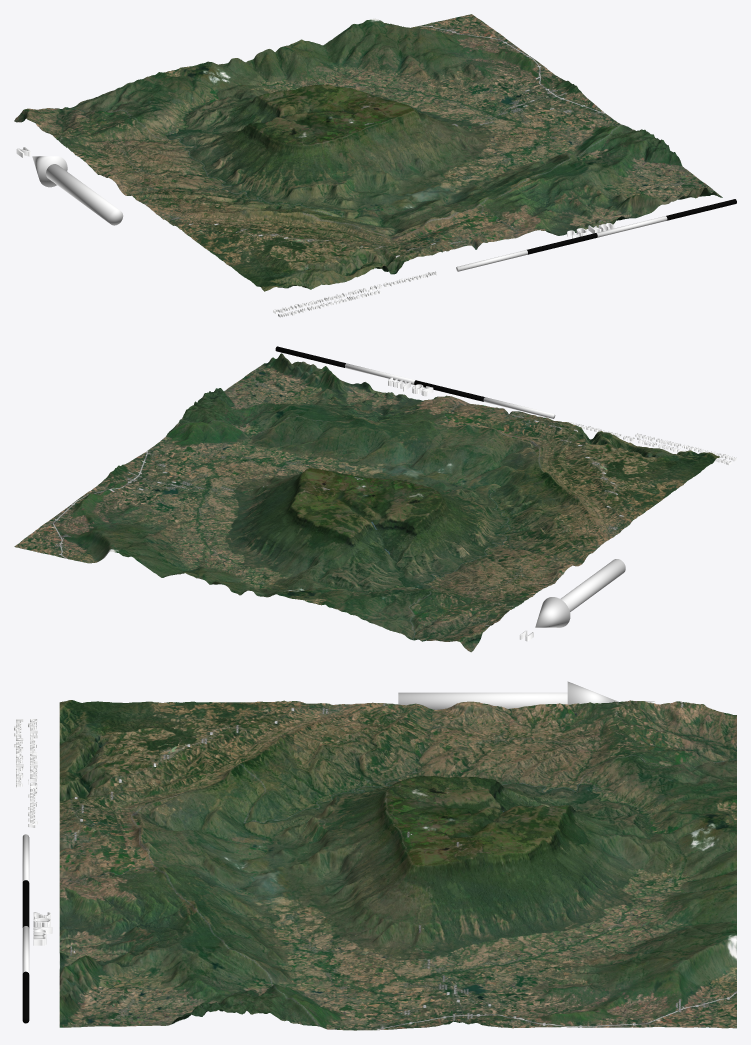
File: mountain.glb
The picture shows the model from 3 angles, top to bottom: view 1: azimuth 30°, elevation 25°; view 2: azimuth 150°, elevation 25°; view 3: azimuth 270°, elevation 25°; orthographic projection. The views are drawn at different scales.
Parts seen in each view (by area): view 1: TerrainNode, Adornments; view 2: TerrainNode, Adornments; view 3: TerrainNode, Adornments.
Part boxes in pixels (bbox=[...]): TerrainNode: bbox=[14, 14, 722, 291]; Adornments: bbox=[16, 147, 736, 317]; TerrainNode: bbox=[14, 353, 720, 652]; Adornments: bbox=[275, 346, 736, 641]; TerrainNode: bbox=[59, 700, 736, 1030]; Adornments: bbox=[14, 681, 655, 1023].
Bounding box in the file's own units: 37226 × 3241 × 34875.
2 materials, 1 textured.
